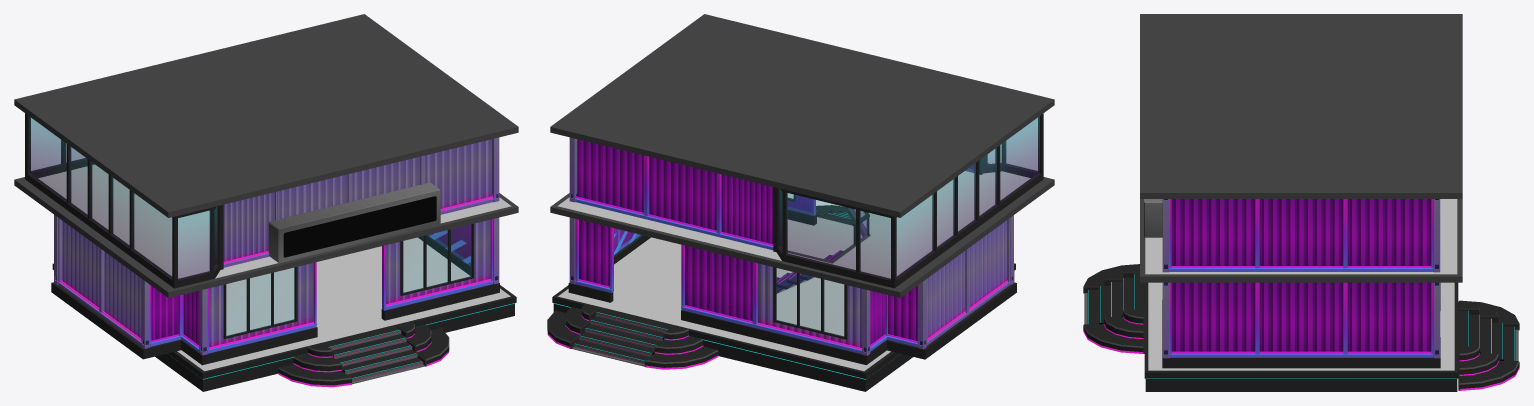
File: building.gltf
3 views of the same model, side by side, from view 1: azimuth 30°, elevation 25°; view 2: azimuth 150°, elevation 25°; view 3: azimuth 270°, elevation 25° (orthographic). The views are drawn at different scales.
Parts seen in each view (by area): view 1: Ceiling, Floor, Details.003 (×6), Glass_Walls.001, Cube (×2), Glass_Walls, Zocalo, Details.002 (×2), Cube.001, Cube.003, Plane, Corner (+6 smaller); view 2: Ceiling, Floor, Details.001 (×4), Glass_Walls.001, Glass_Walls, Zocalo, Details.003 (×2), Cube, Details.004 (×3), Plane, Corner, Plane.001 (×4) (+6 smaller); view 3: Ceiling, Details.001 (×6), Floor, Corner (×2), Plane.001 (×6), Plane (×2), Zocalo, corner_01 (×4), Cube.001.
Part boxes in pixels (x1=…): Ceiling: x1=14, y1=14, x2=518, y2=297; Floor: x1=52, y1=237, x2=516, y2=391; Details.003 (×6): x1=62, y1=139, x2=493, y2=338; Glass_Walls.001: x1=29, y1=117, x2=217, y2=279; Cube (×2): x1=223, y1=223, x2=474, y2=338; Glass_Walls: x1=25, y1=113, x2=223, y2=288; Zocalo: x1=51, y1=235, x2=499, y2=365; Details.002 (×2): x1=209, y1=219, x2=490, y2=347; Cube.001: x1=268, y1=182, x2=440, y2=263; Cube.003: x1=283, y1=196, x2=436, y2=257; Plane: x1=324, y1=326, x2=424, y2=384; Corner: x1=278, y1=321, x2=449, y2=387; Ceiling: x1=550, y1=14, x2=1054, y2=297; Floor: x1=552, y1=215, x2=1015, y2=391; Details.001 (×4): x1=576, y1=139, x2=773, y2=321; Glass_Walls.001: x1=779, y1=116, x2=1039, y2=278; Glass_Walls: x1=773, y1=113, x2=1043, y2=288; Zocalo: x1=568, y1=210, x2=1016, y2=365; Details.003 (×2): x1=927, y1=220, x2=1006, y2=338; Cube: x1=773, y1=267, x2=847, y2=339; Details.004 (×3): x1=579, y1=219, x2=917, y2=344; Plane: x1=572, y1=309, x2=672, y2=366; Corner: x1=547, y1=304, x2=718, y2=369; Plane.001 (×4): x1=572, y1=155, x2=773, y2=327; Ceiling: x1=1140, y1=14, x2=1462, y2=282; Details.001 (×6): x1=1171, y1=199, x2=1431, y2=351; Floor: x1=1144, y1=282, x2=1458, y2=391; Corner (×2): x1=1083, y1=264, x2=1519, y2=390; Plane.001 (×6): x1=1169, y1=199, x2=1433, y2=357; Plane (×2): x1=1084, y1=273, x2=1518, y2=360; Zocalo: x1=1162, y1=283, x2=1440, y2=368; corner_01 (×4): x1=1162, y1=199, x2=1440, y2=358; Cube.001: x1=1144, y1=199, x2=1162, y2=237.
Size of what is drawn, in the model's own units: 19.22 by 10.04 by 19.83.
